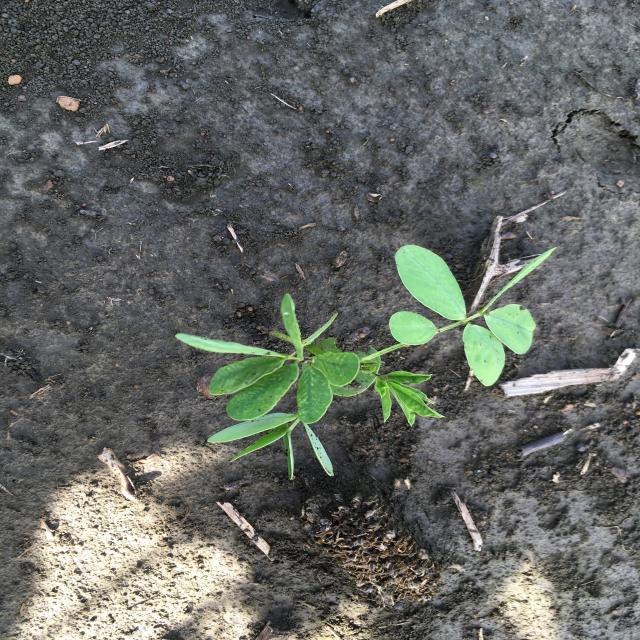Sicklepod: (172, 242, 562, 482)
